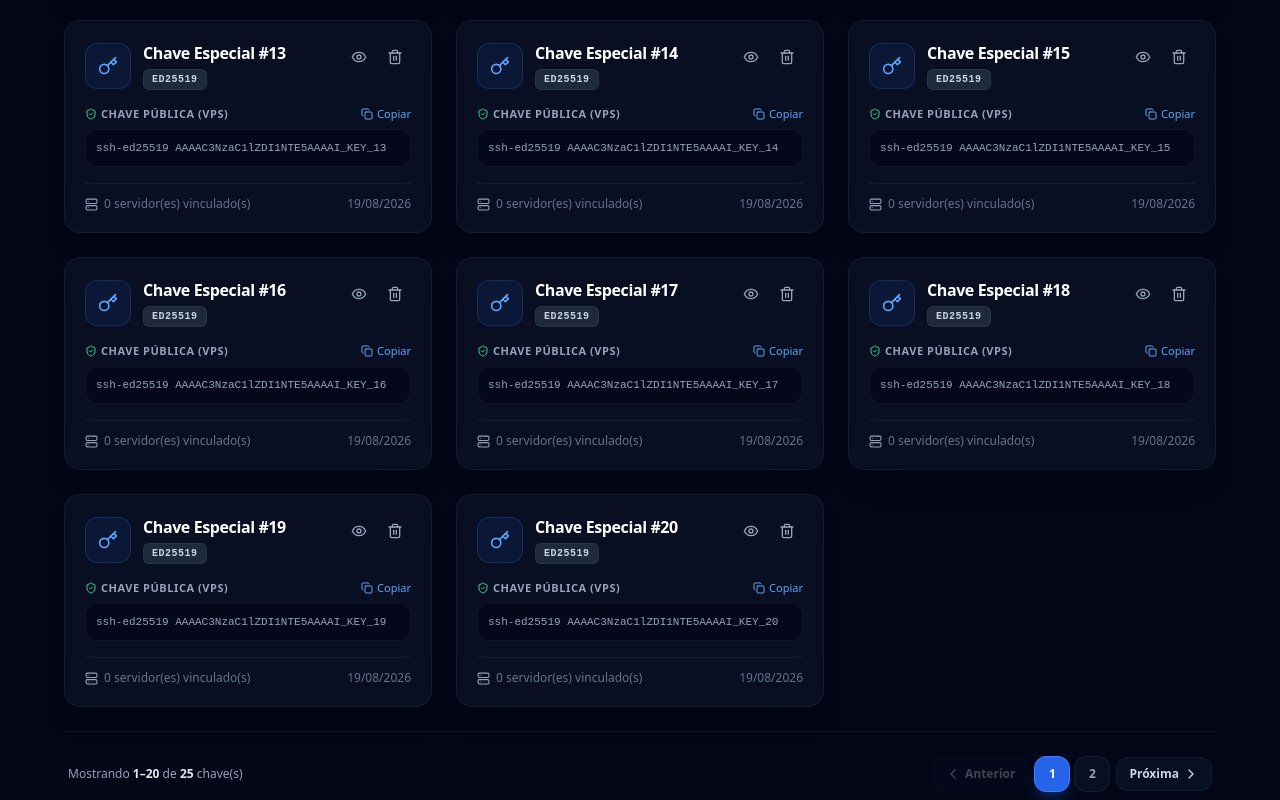
Test: SshKeys Page Component › reseta a página para 1 quando o usuário realiza uma busca
The image size is (1280, 800).
(page scrolled)
// Navega para a página 2
Click the button named "Página 2" at (1092, 774), box [1074,756,1110,792]
(page scrolled)
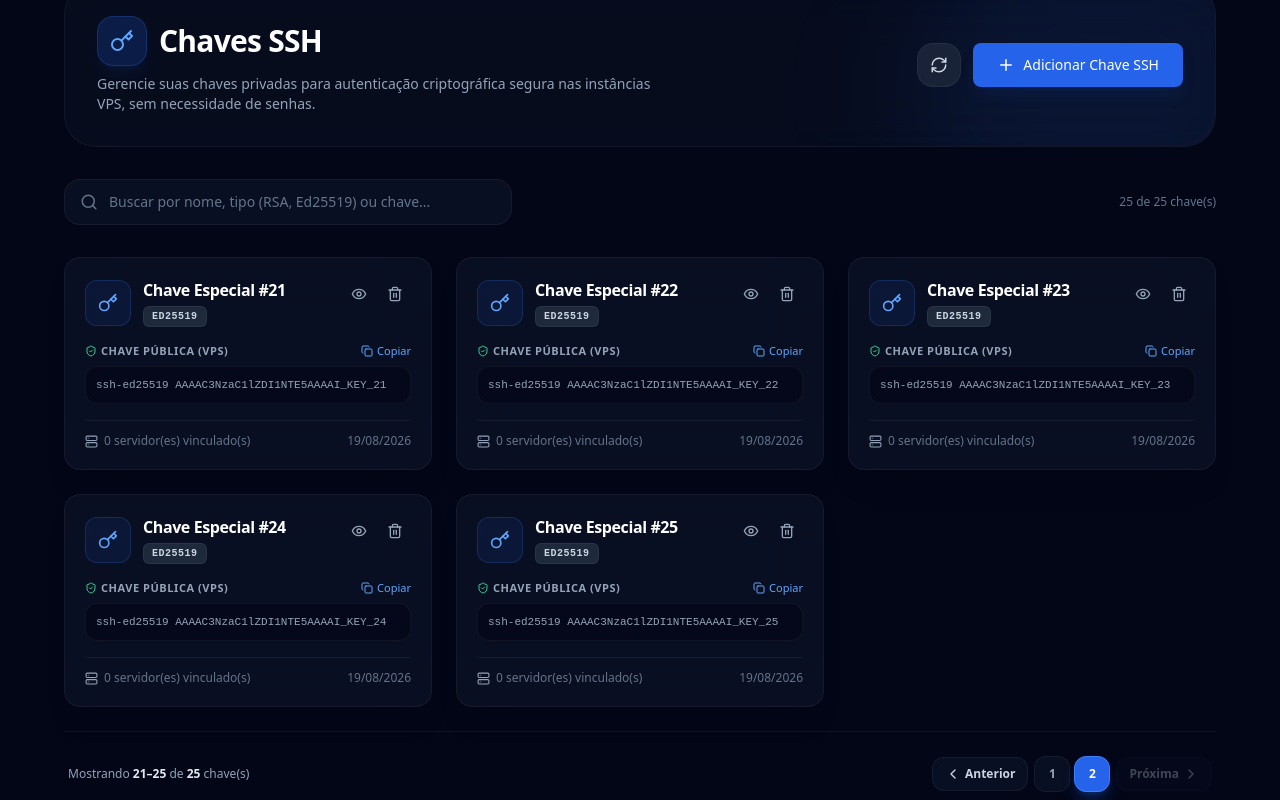
expect the text "21–25" is shown: met, box [133,765,166,782]
// Realiza busca no input
Type "Chave Especial #25" into the field with placeholder "Buscar por nome, tipo (RSA, Ed25519) ou chave..." at (288, 202), box [64,179,512,225]
(page scrolled)
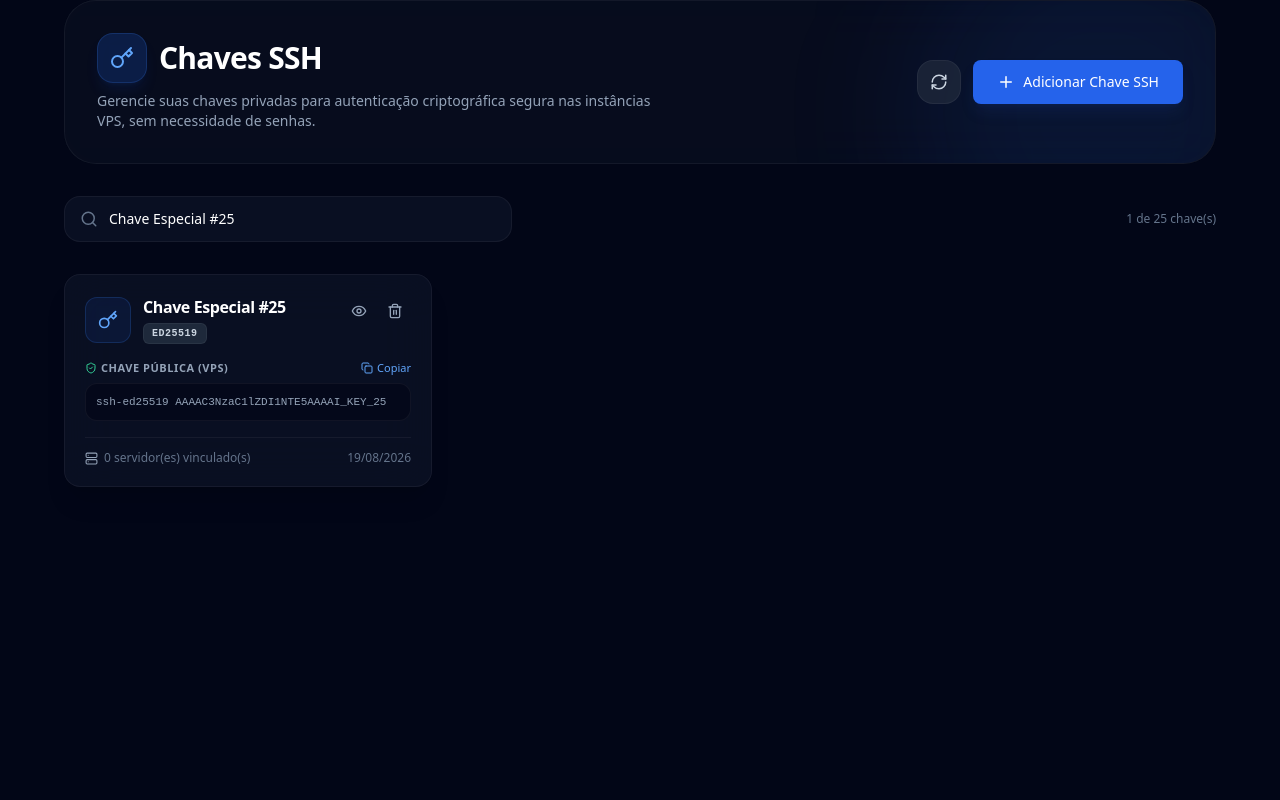
expect the heading "Chave Especial #25" is shown: met, box [143,295,286,319]
expect the heading "Chave Especial #24" is gone: met
